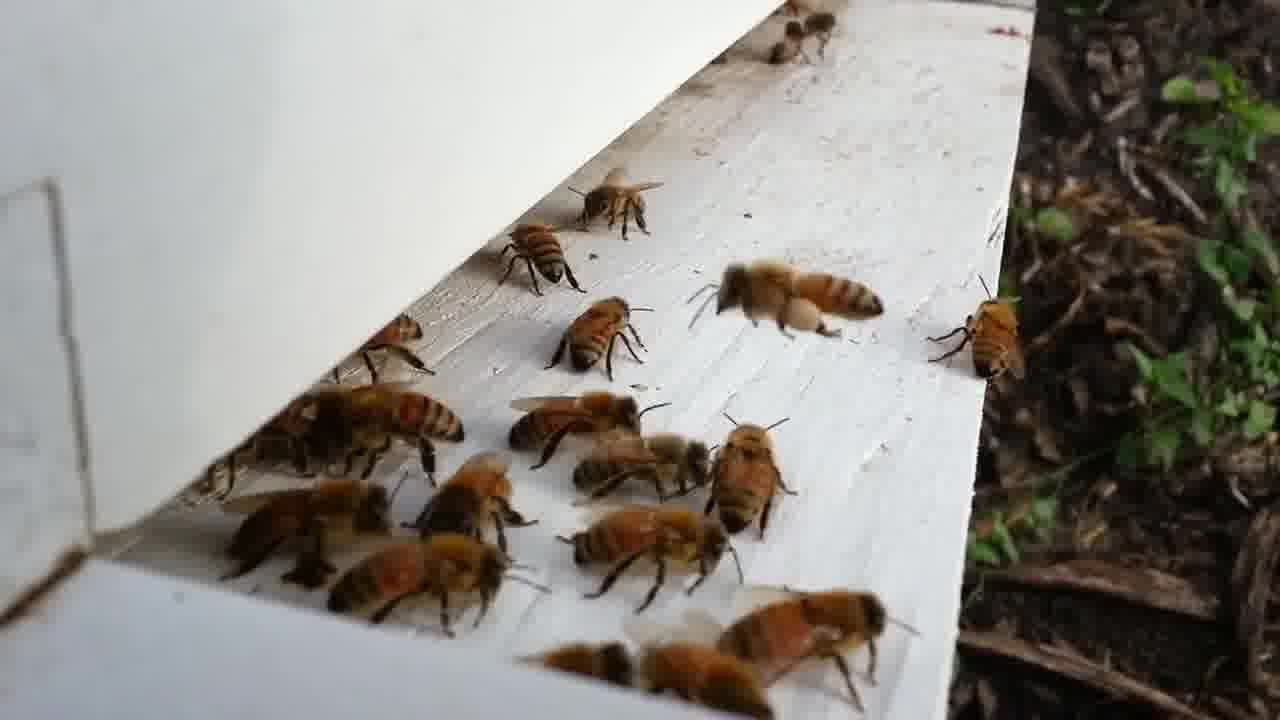pollen: (699, 259, 887, 345)
